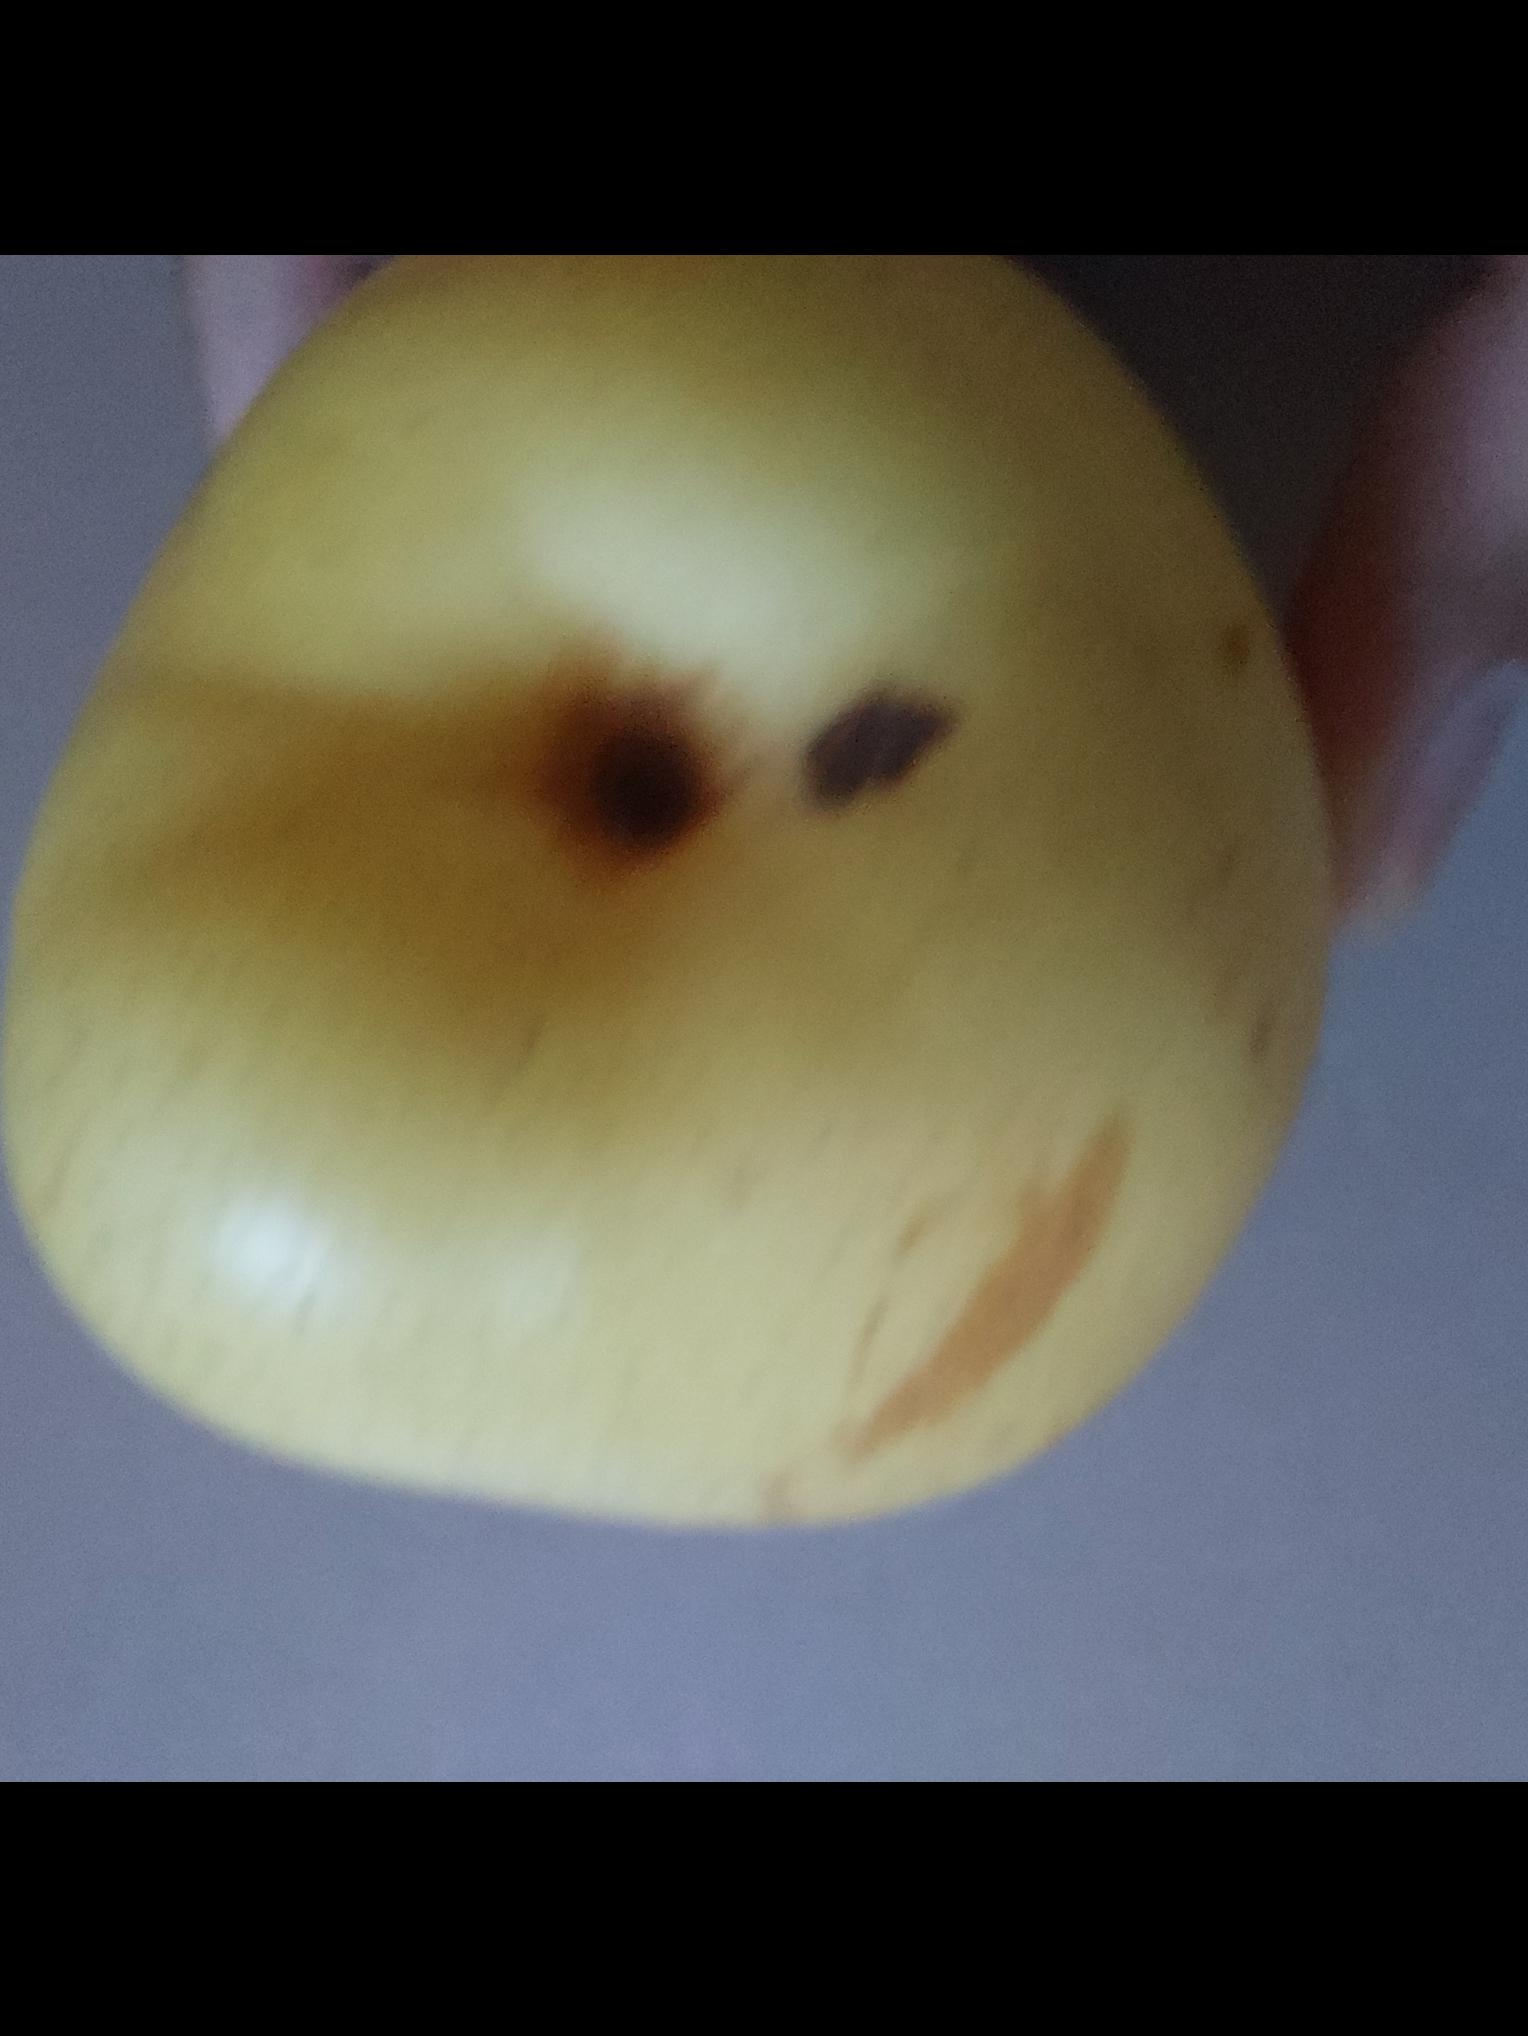Good Pear: (0, 254, 1347, 1538)
